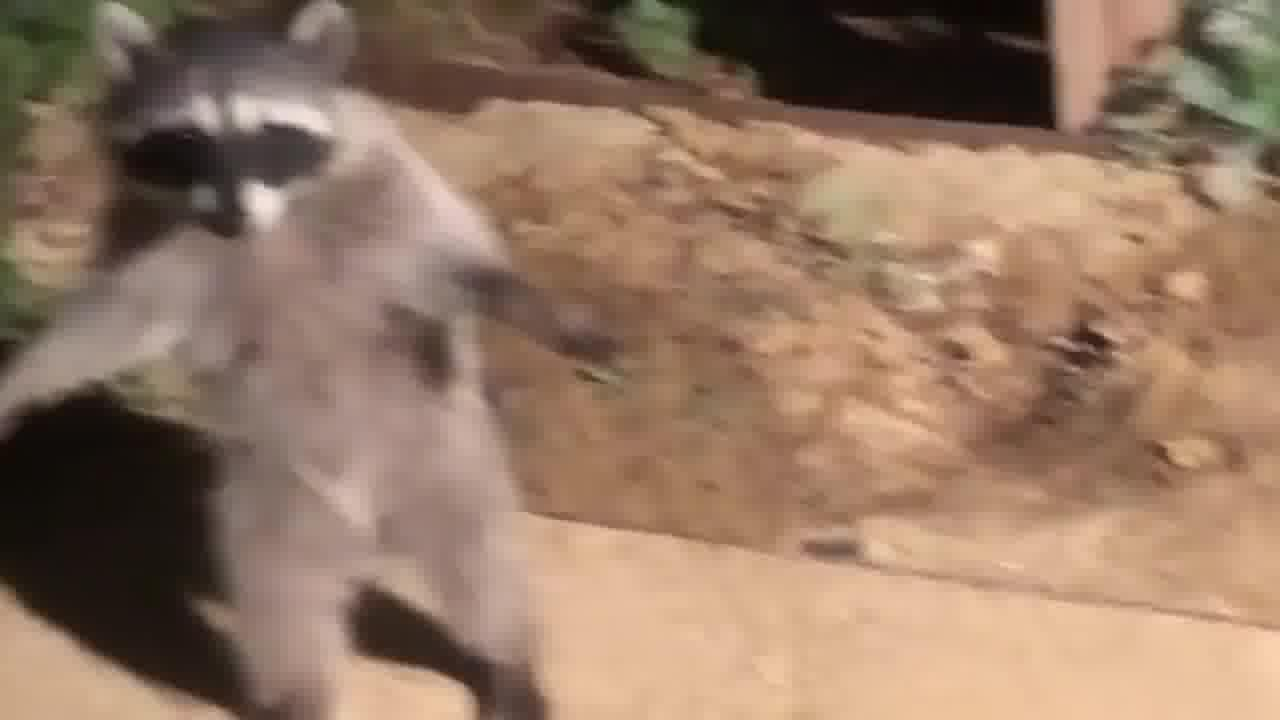raccoon: (0, 4, 644, 720)
